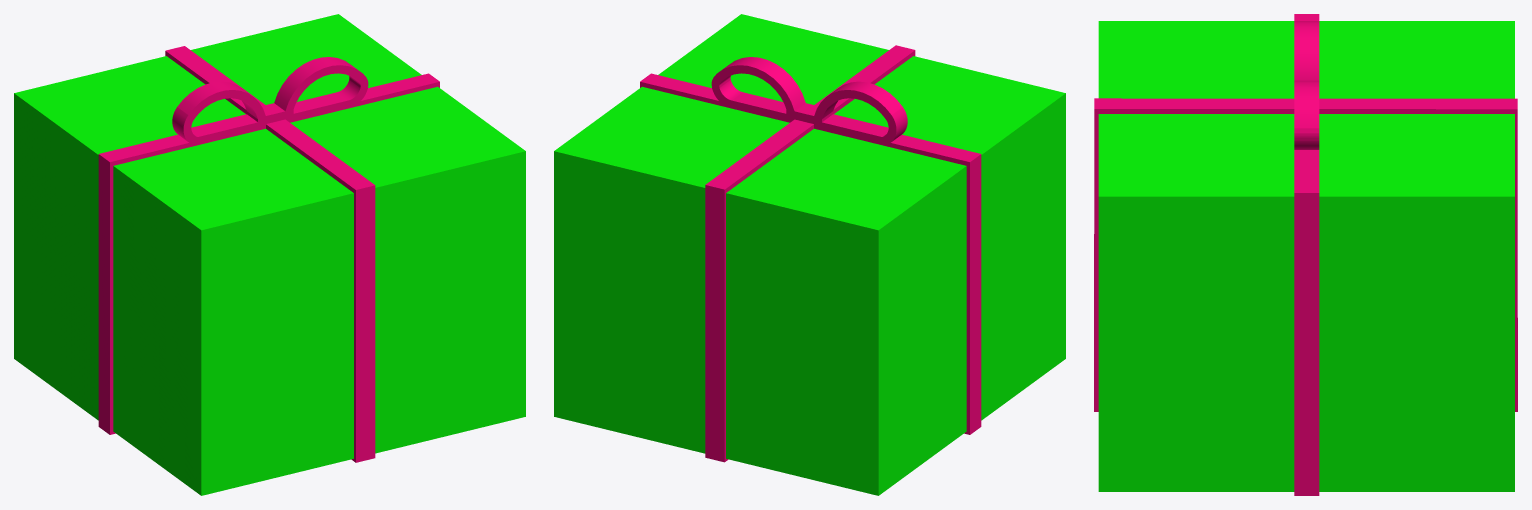
Rendered from regalo.dae.
3 renders of one model, left to right at view 1: azimuth 30°, elevation 25°; view 2: azimuth 150°, elevation 25°; view 3: azimuth 270°, elevation 25°, orthographic. The views are drawn at different scales.
Visible parts, largest first — view 1: SketchUp (×4); view 2: SketchUp (×4); view 3: SketchUp (×3).
Part boxes in pixels (<box>): SketchUp (×4): <box>14,14,525,495</box>; SketchUp (×4): <box>554,14,1065,495</box>; SketchUp (×3): <box>1094,14,1517,495</box>.
Size of the model in its own units: 48.12 by 48.16 by 44.09.
